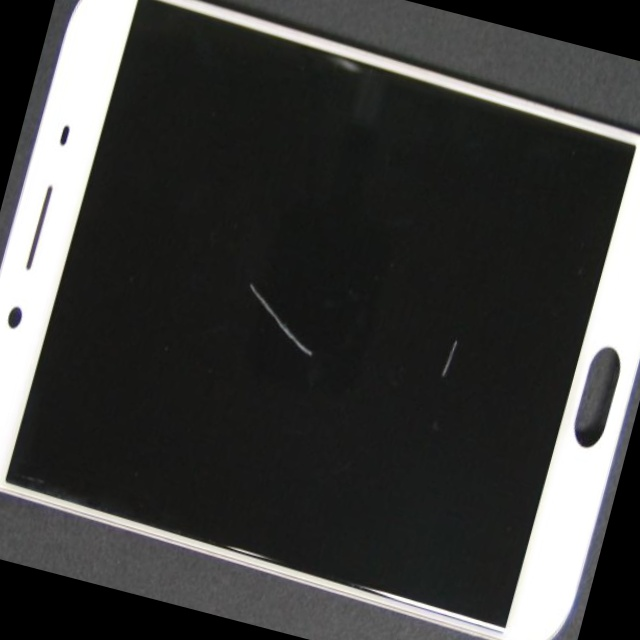scratch: (209, 137, 640, 532), (165, 173, 485, 520)
